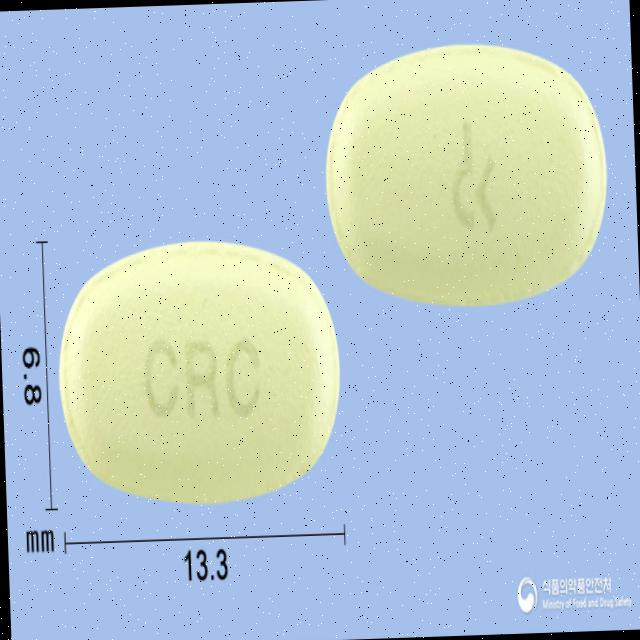Clirocin: (52, 227, 346, 514), (320, 34, 612, 315)
